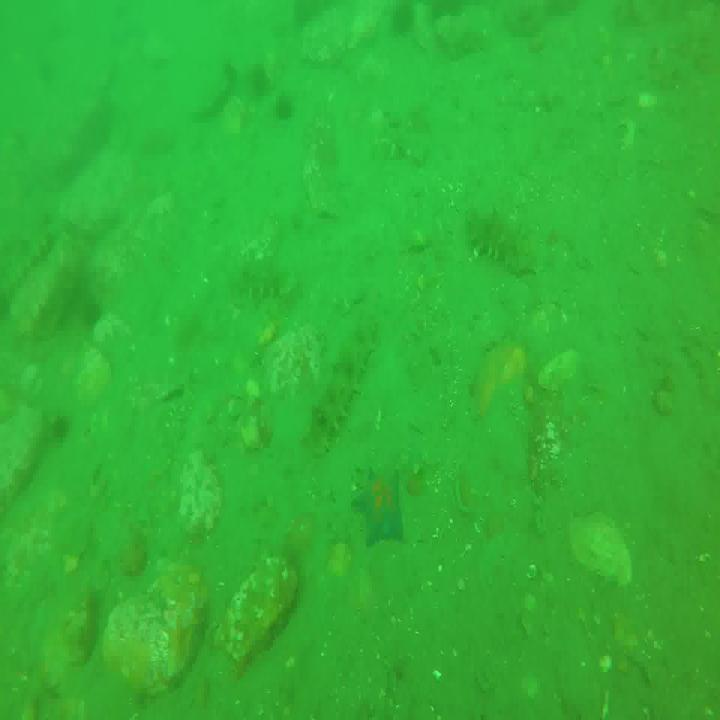echinus: (51, 407, 73, 444), (272, 89, 294, 125), (80, 299, 102, 331)
holothurian: (310, 317, 380, 459), (0, 233, 55, 315), (468, 210, 530, 271), (228, 258, 296, 295)
starfish: (353, 462, 405, 541)
